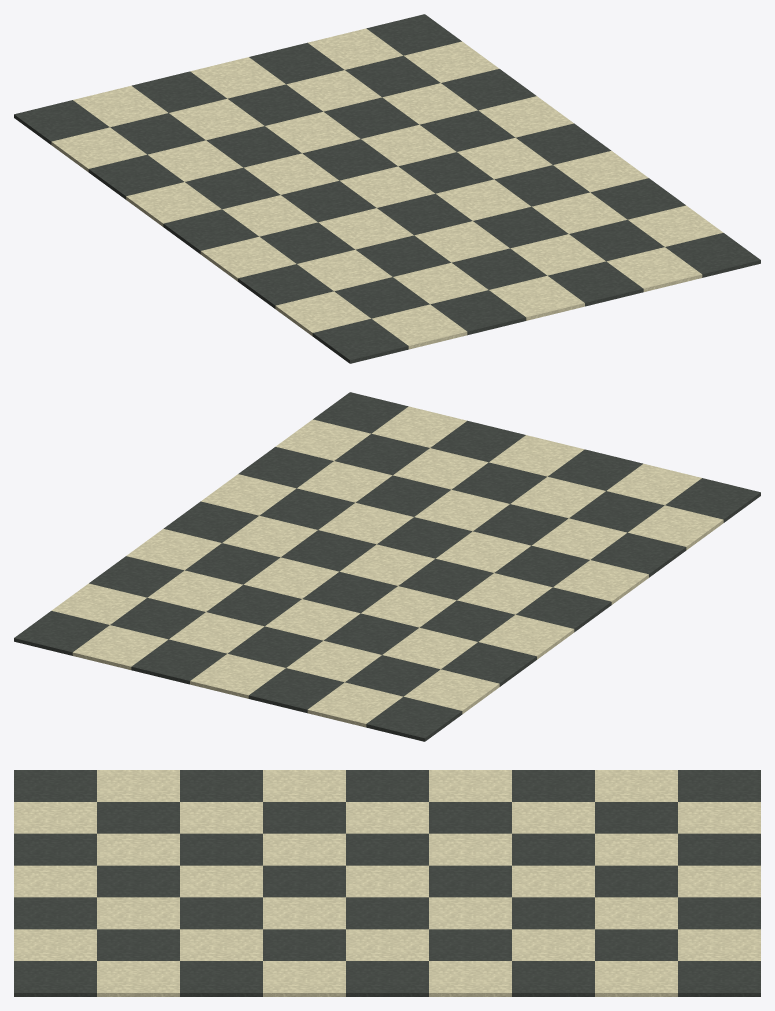
Rendered from alfombra-shaggy-cuadros-verde-120x170.glb.
3 views of the same model, one above another, from view 1: azimuth 30°, elevation 25°; view 2: azimuth 150°, elevation 25°; view 3: azimuth 270°, elevation 25° (orthographic). The views are drawn at different scales.
Visible parts, largest first — view 1: alfombra-shaggy-cuadros-verde; view 2: alfombra-shaggy-cuadros-verde; view 3: alfombra-shaggy-cuadros-verde.
Boxes of the visible parts, x1,y1,x2,y2 form: alfombra-shaggy-cuadros-verde: [14, 14, 760, 363]; alfombra-shaggy-cuadros-verde: [14, 392, 760, 741]; alfombra-shaggy-cuadros-verde: [14, 770, 760, 996].
Size of the model in its own units: 1.2 by 0.01 by 1.7.
Materials: 2 (2 with a texture image).
